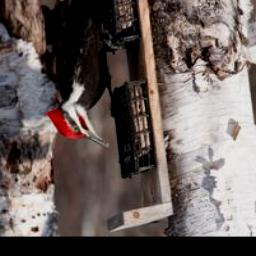Woodpecker: (43, 0, 124, 150)
